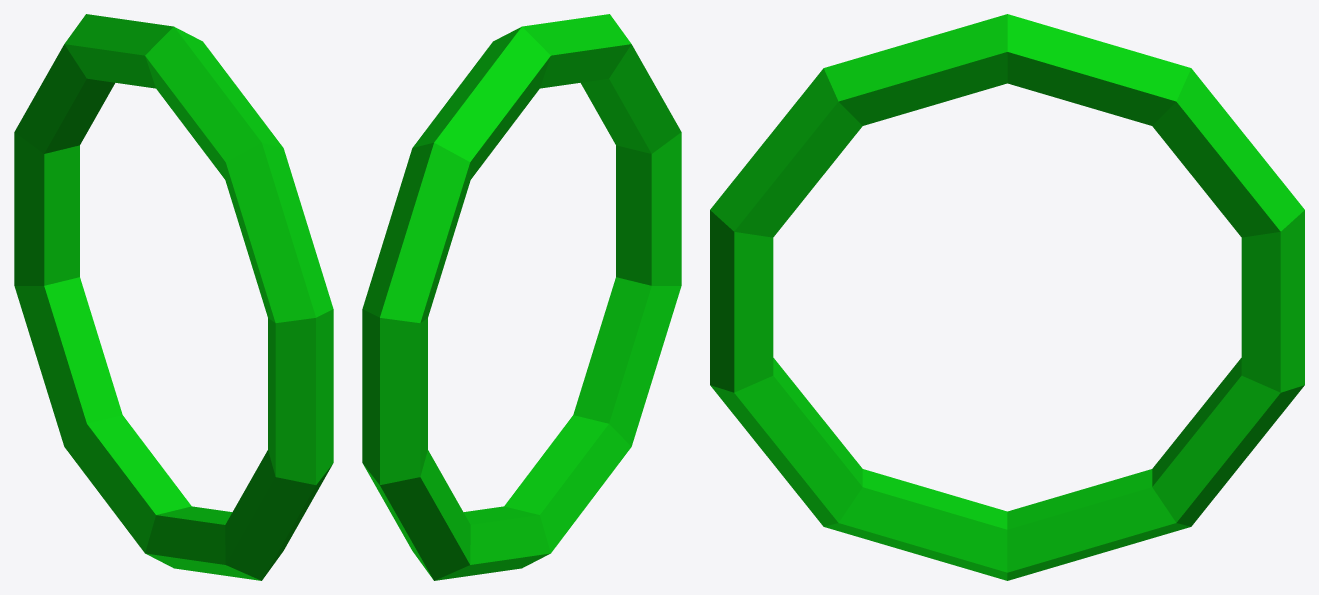
Rendered from drone_ring.dae.
3 views of the same model, side by side, from view 1: azimuth 30°, elevation 25°; view 2: azimuth 150°, elevation 25°; view 3: azimuth 270°, elevation 25° (orthographic). The views are drawn at different scales.
Parts seen in each view (by area): view 1: Torus; view 2: Torus; view 3: Torus.
Boxes of the visible parts, x1,y1,x2,y2 form: Torus: [14, 14, 333, 580]; Torus: [362, 14, 681, 580]; Torus: [710, 14, 1304, 580].
Bounding box in the file's own units: 0.1902 × 1.62 × 1.7.
